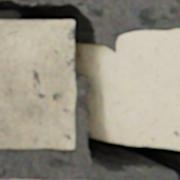brick: (0, 20, 74, 148), (107, 29, 179, 149)
broken_brick: (0, 178, 38, 179)
crack: (0, 0, 179, 179)
